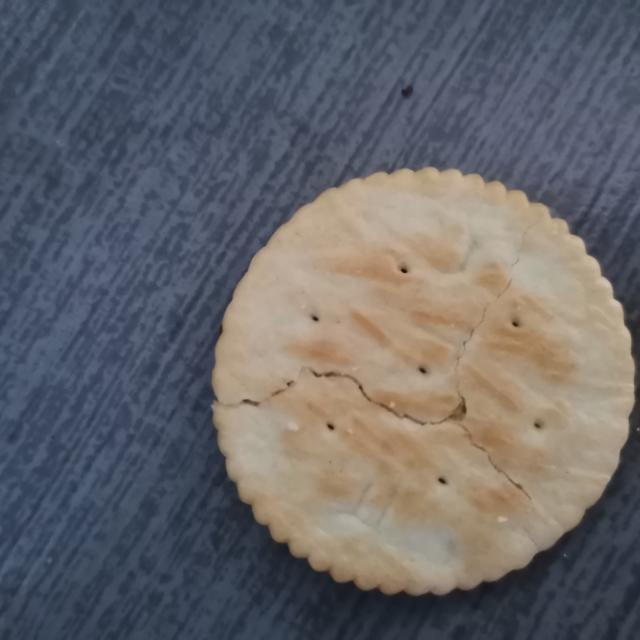Fracture: (210, 205, 566, 535)
